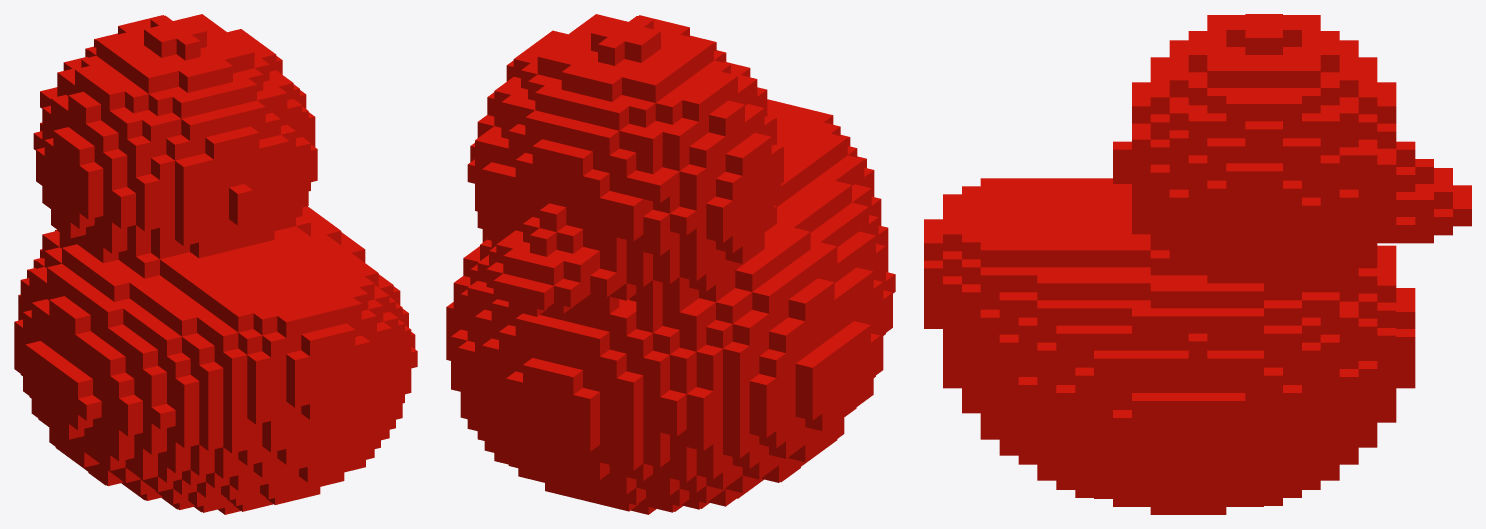
Rendered from Pixelated_Ducky.fbx.
3 renders of one model, left to right at view 1: azimuth 30°, elevation 25°; view 2: azimuth 150°, elevation 25°; view 3: azimuth 270°, elevation 25°, orthographic. The views are drawn at different scales.
Parts seen in each view (by area): view 1: Rubber_Duck.004; view 2: Rubber_Duck.004; view 3: Rubber_Duck.004.
Part boxes in pixels (x1,y1,x2,y2): Rubber_Duck.004: [14, 14, 417, 514]; Rubber_Duck.004: [446, 14, 895, 514]; Rubber_Duck.004: [924, 14, 1471, 514].
Size of the model in its own units: 109 by 140 by 151.
